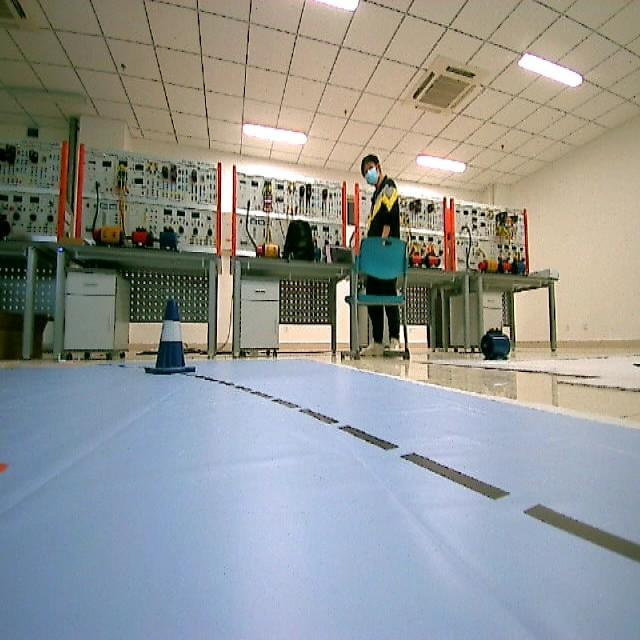obstacle: (136, 295, 205, 388)
